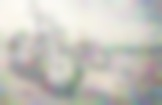Vehicle: (0, 1, 85, 96), (67, 26, 111, 70)
